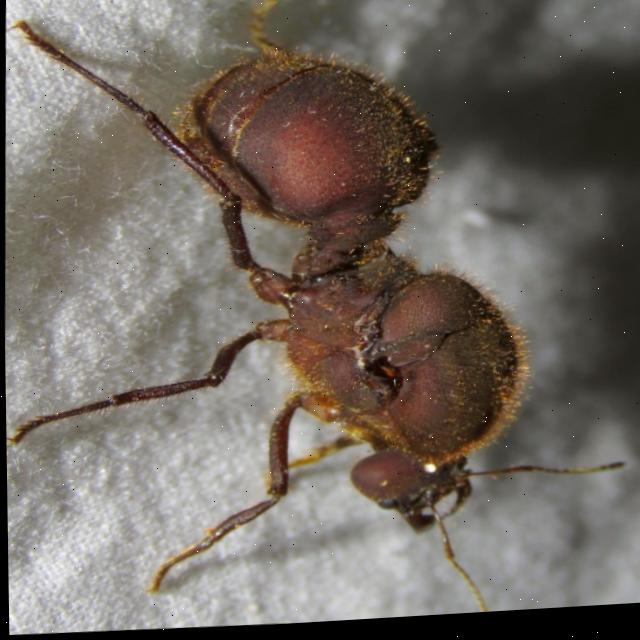Alive-Female-Dealate: (0, 0, 632, 640)
